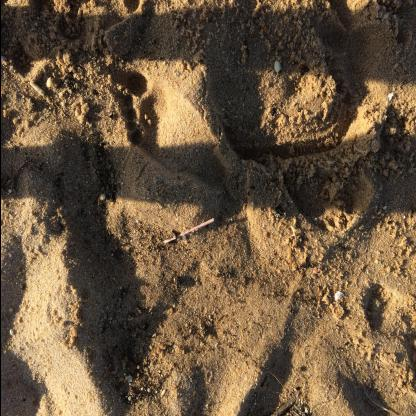plastik: (163, 216, 213, 246)
